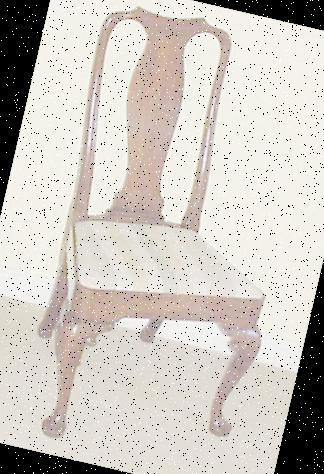Silla: (4, 0, 323, 473)
